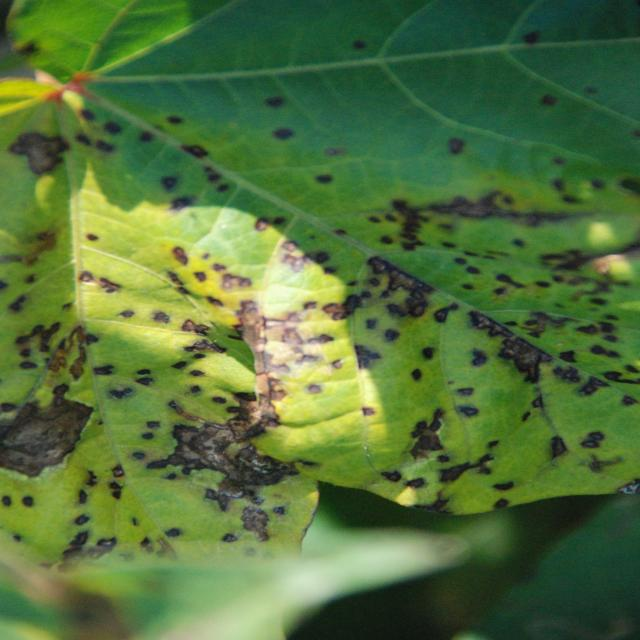Bacterial Blight: (84, 202, 432, 477)
